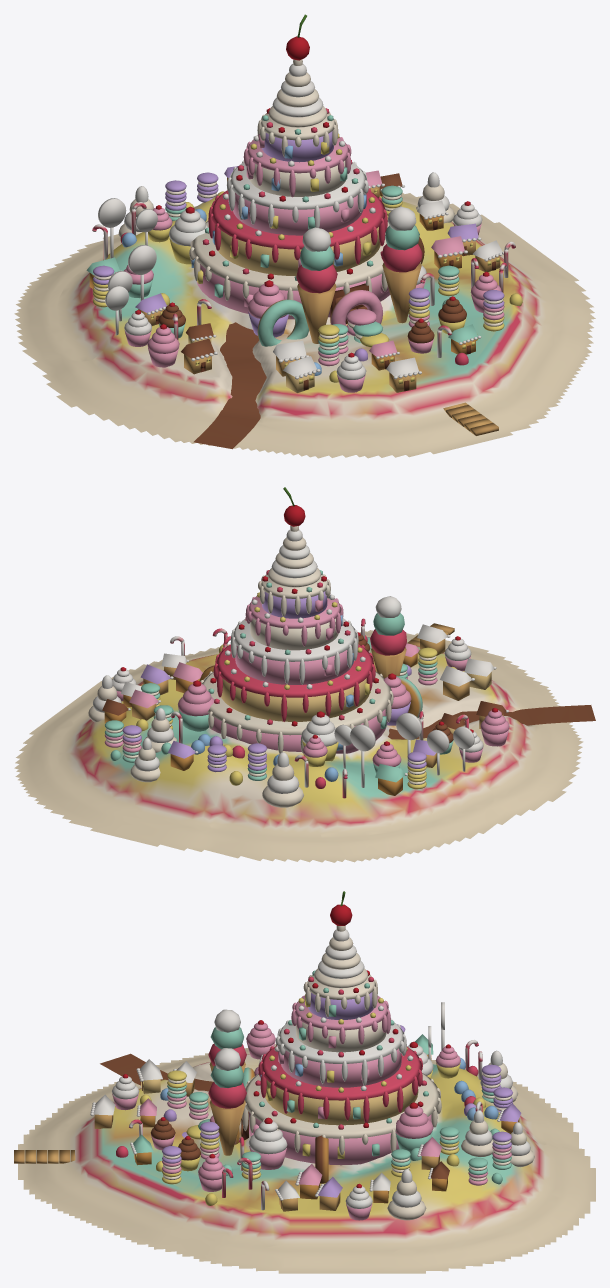
3 views of the same model, one above another, from view 1: azimuth 30°, elevation 25°; view 2: azimuth 150°, elevation 25°; view 3: azimuth 270°, elevation 25° (orthographic). The views are drawn at different scales.
Visible parts, largest first — view 1: BASE, VILLE_2, VILLE_4, VILLE_3; view 2: BASE, VILLE_2, VILLE_3, VILLE_4; view 3: BASE, VILLE_2, VILLE_4, VILLE_3.
Part boxes in pixels (<box>): BASE: <box>14,14,595,458</box>; VILLE_2: <box>124,170,481,392</box>; VILLE_4: <box>86,180,429,376</box>; VILLE_3: <box>93,166,482,325</box>; BASE: <box>14,487,595,862</box>; VILLE_2: <box>102,632,483,762</box>; VILLE_3: <box>112,667,436,789</box>; VILLE_4: <box>247,663,508,795</box>; BASE: <box>14,891,595,1273</box>; VILLE_2: <box>112,1074,511,1210</box>; VILLE_4: <box>173,1034,501,1159</box>; VILLE_3: <box>345,1024,521,1220</box>.
Bounding box in the file's own units: 72 × 40.16 × 77.02.
